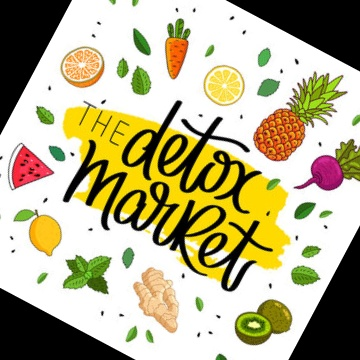Pineapple: (253, 69, 348, 161)
